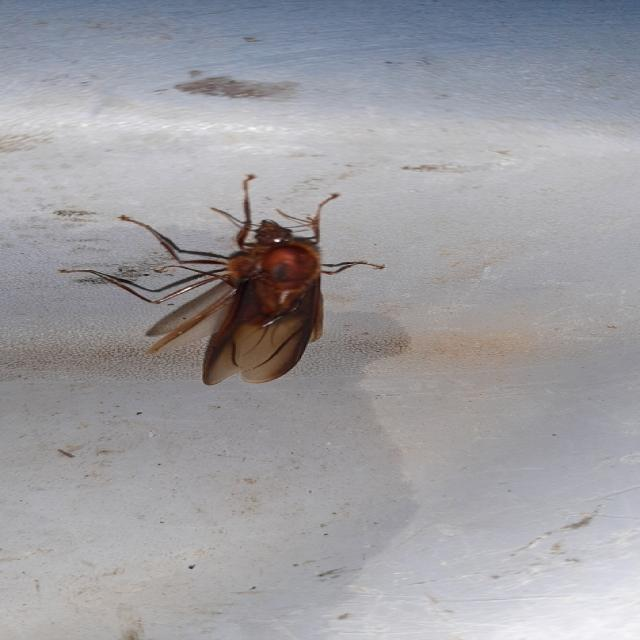Alive-Male-Alate: (57, 173, 387, 386)
